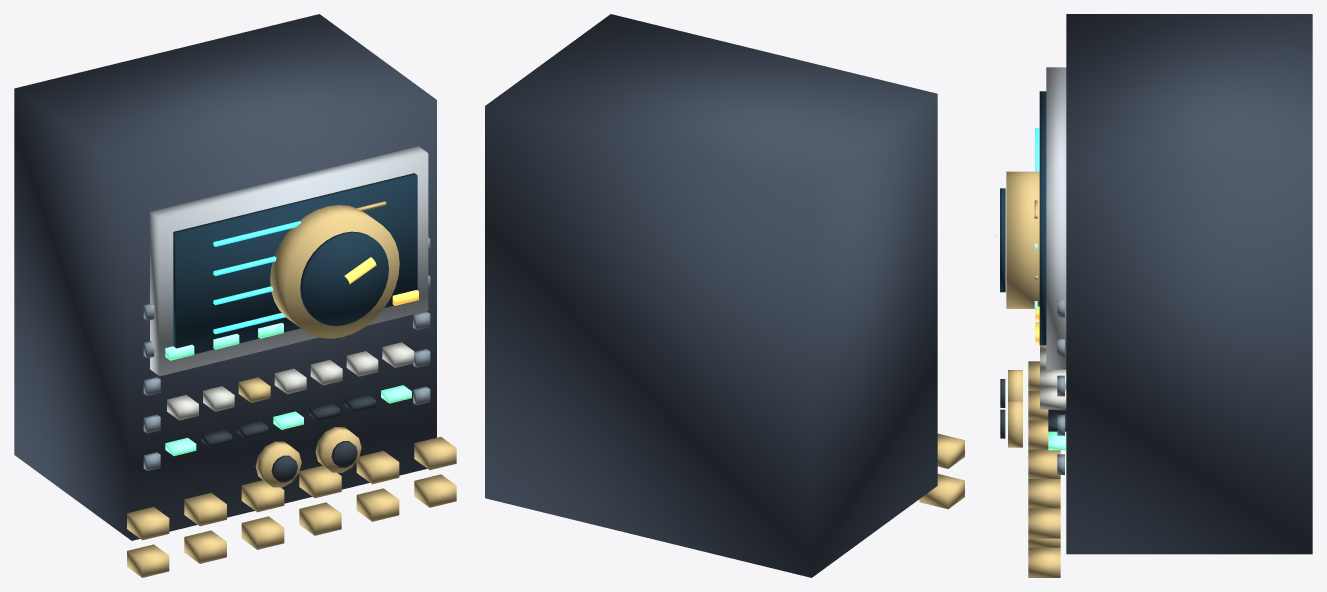
Rendered from 43_L92_DrillDepthEncoder.glb.
3 renders of one model, left to right at view 1: azimuth 30°, elevation 25°; view 2: azimuth 150°, elevation 25°; view 3: azimuth 270°, elevation 25°, orthographic. The views are drawn at different scales.
Parts seen in each view (by area): view 1: L92_DrillDepthEncoder, L92_DrillDepthEncoder_Part_0011, L92_DrillDepthEncoder_Part_0013, L92_DrillDepthEncoder_Part_0009, L92_DrillDepthEncoder_Part_0010, L92_DrillDepthEncoder_Part_0012; view 2: L92_DrillDepthEncoder; view 3: L92_DrillDepthEncoder, L92_DrillDepthEncoder_Part_0013, L92_DrillDepthEncoder_Part_0011.
Boxes of the visible parts, x1=… form: L92_DrillDepthEncoder: x1=14, y1=14, x2=456, y2=577; L92_DrillDepthEncoder_Part_0011: x1=255, y1=441, x2=301, y2=487; L92_DrillDepthEncoder_Part_0013: x1=315, y1=427, x2=361, y2=472; L92_DrillDepthEncoder_Part_0009: x1=165, y1=323, x2=283, y2=360; L92_DrillDepthEncoder_Part_0010: x1=344, y1=257, x2=418, y2=305; L92_DrillDepthEncoder_Part_0012: x1=271, y1=455, x2=297, y2=482; L92_DrillDepthEncoder: x1=485, y1=14, x2=964, y2=577; L92_DrillDepthEncoder: x1=1000, y1=14, x2=1312, y2=577; L92_DrillDepthEncoder_Part_0013: x1=1008, y1=400, x2=1022, y2=447; L92_DrillDepthEncoder_Part_0011: x1=1008, y1=370, x2=1022, y2=400.
Bounding box in the file's own units: 1.05 × 1.24 × 0.881.
